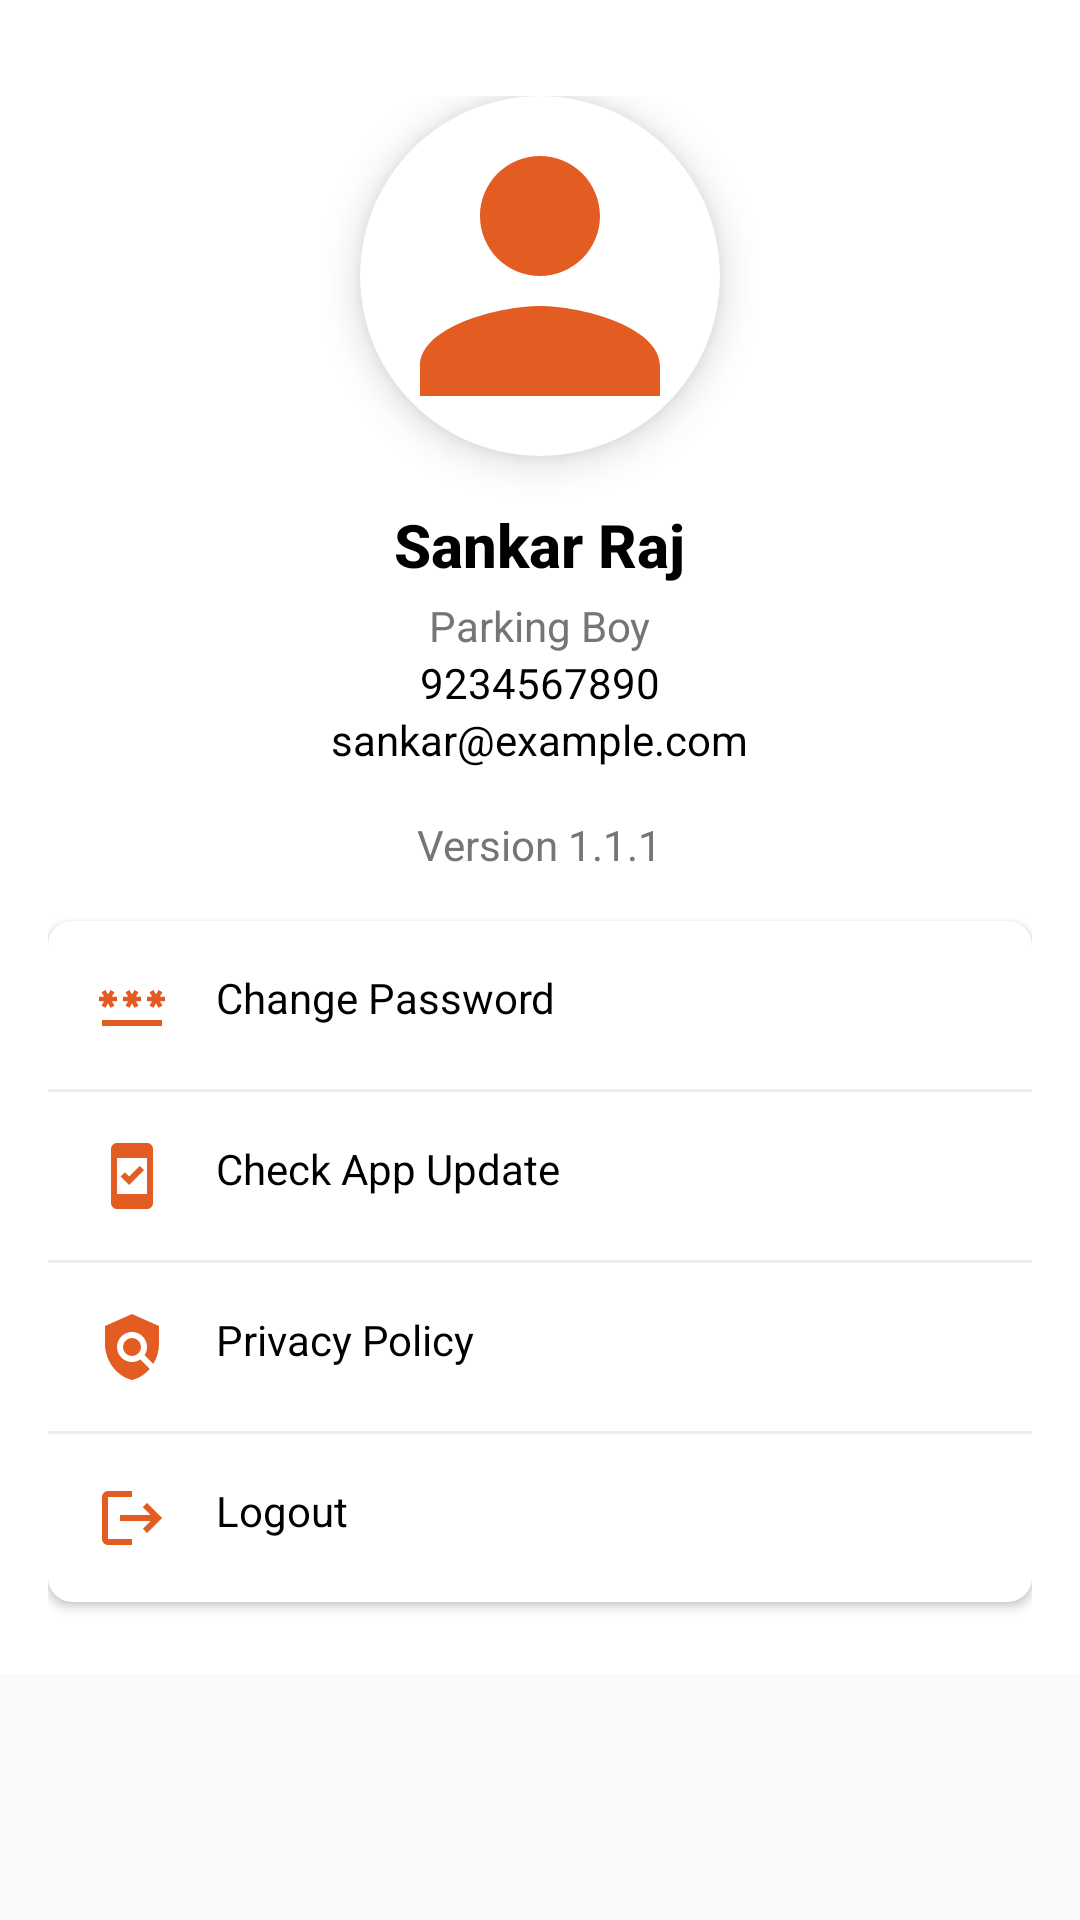

Icon click points for this 1080px×1920px phone screenshot, format [x,y]:
Profile Image: [540,306]
